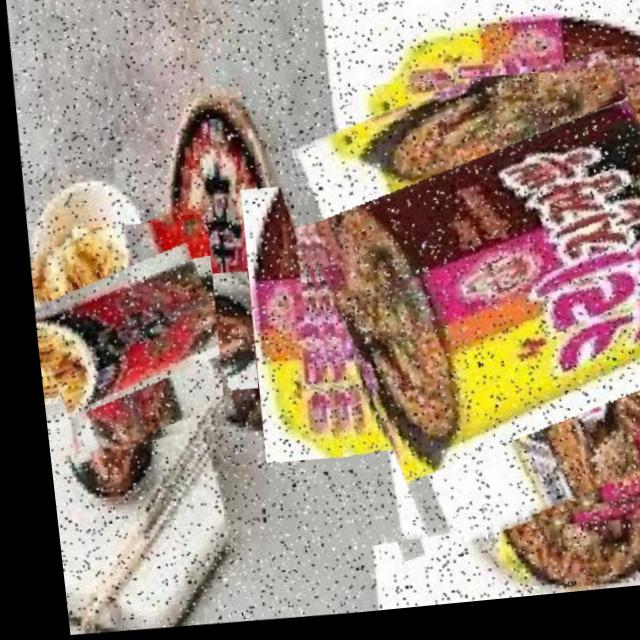Miscellaneous: (273, 70, 640, 562), (21, 218, 220, 460)
